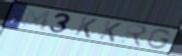3: (48, 12, 76, 35)
G: (146, 29, 174, 50)
K: (73, 15, 100, 39), (97, 19, 124, 43)
M: (20, 7, 53, 32)
R: (119, 23, 149, 49)
